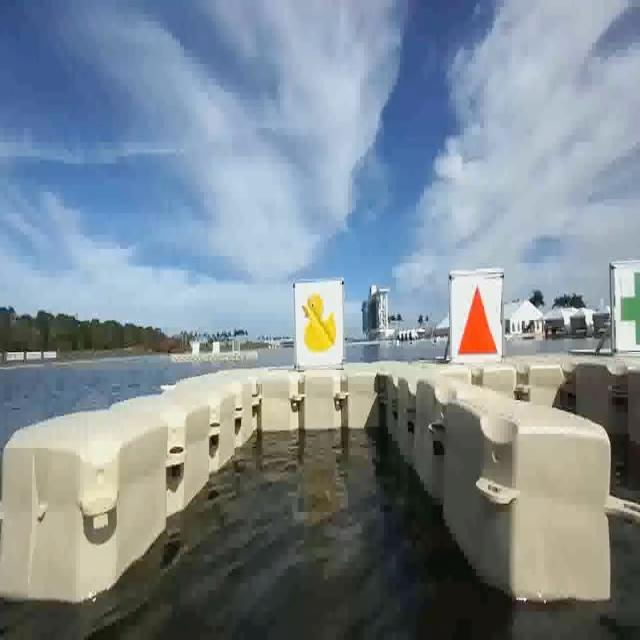blue-cross: (611, 254, 640, 354)
yellow-duck: (291, 281, 345, 370)
